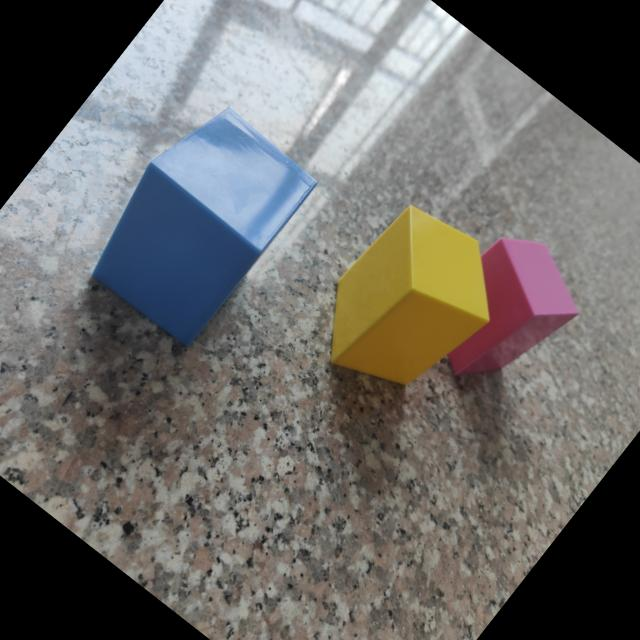blue: (89, 111, 316, 348)
pink: (447, 238, 579, 378)
yellow: (329, 208, 490, 387)
